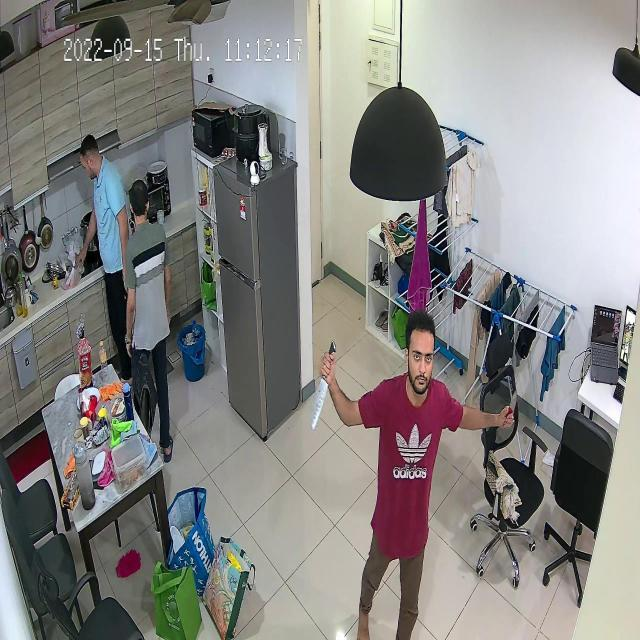Knife: (302, 338, 346, 430), (493, 386, 535, 426)
